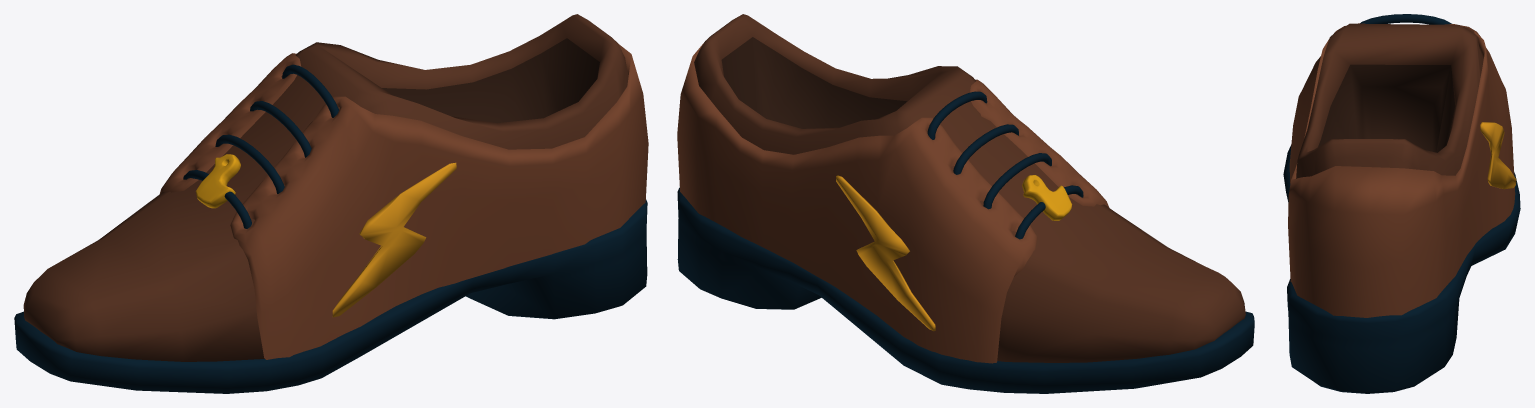
Rendered from zapato_texturizado.fbx.
3 renders of one model, left to right at view 1: azimuth 30°, elevation 25°; view 2: azimuth 150°, elevation 25°; view 3: azimuth 270°, elevation 25°, orthographic. The views are drawn at different scales.
Parts seen in each view (by area): view 1: zpto_ensi.001, zpto_ensi, suela, Plane.001, cuerda, Plane; view 2: zpto_ensi, zpto_ensi.001, suela, Plane.001, cuerda, Plane; view 3: zpto_ensi.001, zpto_ensi, suela, Plane.001, cuerda.
Part boxes in pixels (x1,y1,x2,y2): zpto_ensi.001: (160, 43, 648, 359); zpto_ensi: (23, 14, 628, 361); suela: (14, 199, 647, 393); Plane.001: (332, 162, 456, 317); cuerda: (183, 64, 338, 228); Plane: (195, 154, 240, 208); zpto_ensi: (694, 14, 1245, 362); zpto_ensi.001: (677, 43, 1109, 363); suela: (677, 187, 1254, 393); Plane.001: (836, 175, 935, 331); cuerda: (927, 91, 1083, 239); Plane: (1022, 175, 1072, 220); zpto_ensi.001: (1288, 23, 1515, 317); zpto_ensi: (1296, 23, 1483, 178); suela: (1283, 145, 1520, 393); Plane.001: (1480, 122, 1516, 189); cuerda: (1360, 14, 1451, 24).
Bounding box in the file's own units: 89.4 × 36.03 × 32.3.
